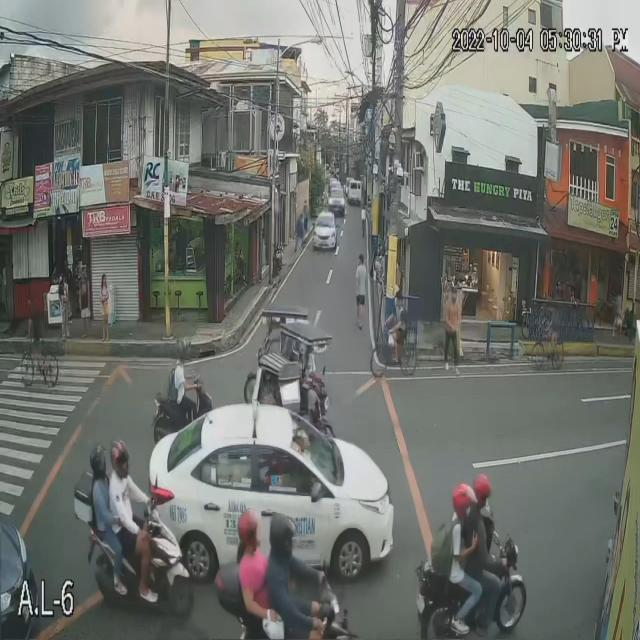Full-Faced: (276, 526, 298, 560), (454, 484, 474, 519), (478, 476, 494, 519), (90, 456, 110, 484), (242, 518, 263, 543), (114, 447, 130, 479), (175, 338, 191, 369)
